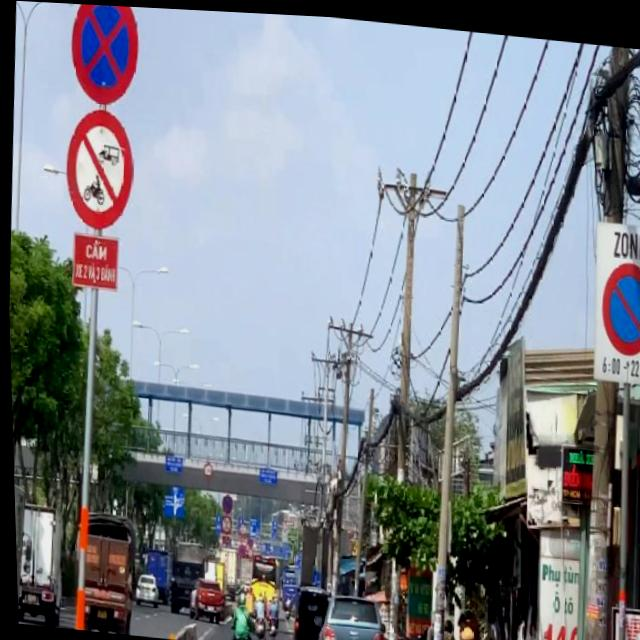Cam do xe: (596, 252, 640, 350)
Cam dung xe va do xe: (66, 3, 142, 107), (218, 491, 231, 513)
Han che chieu cao: (200, 460, 210, 475)
